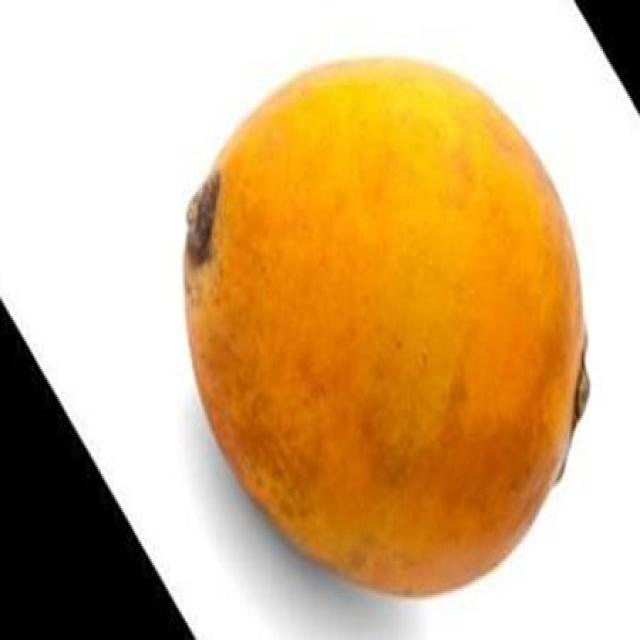good: (185, 60, 585, 591)
